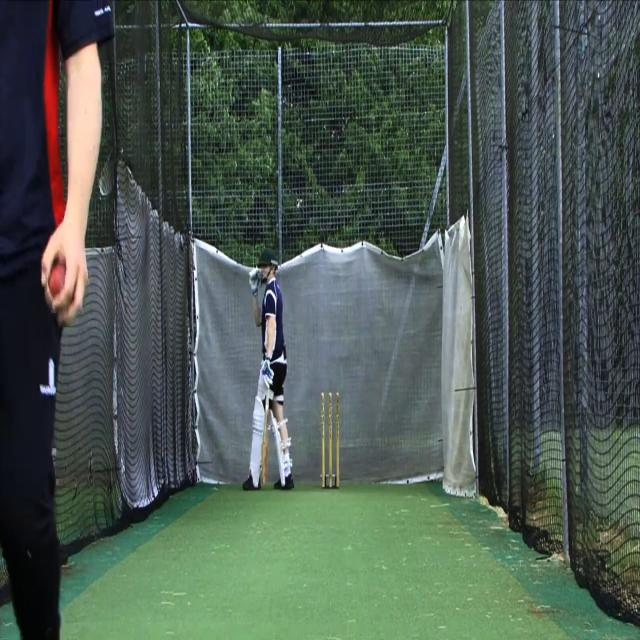batsman: (240, 245, 296, 492)
